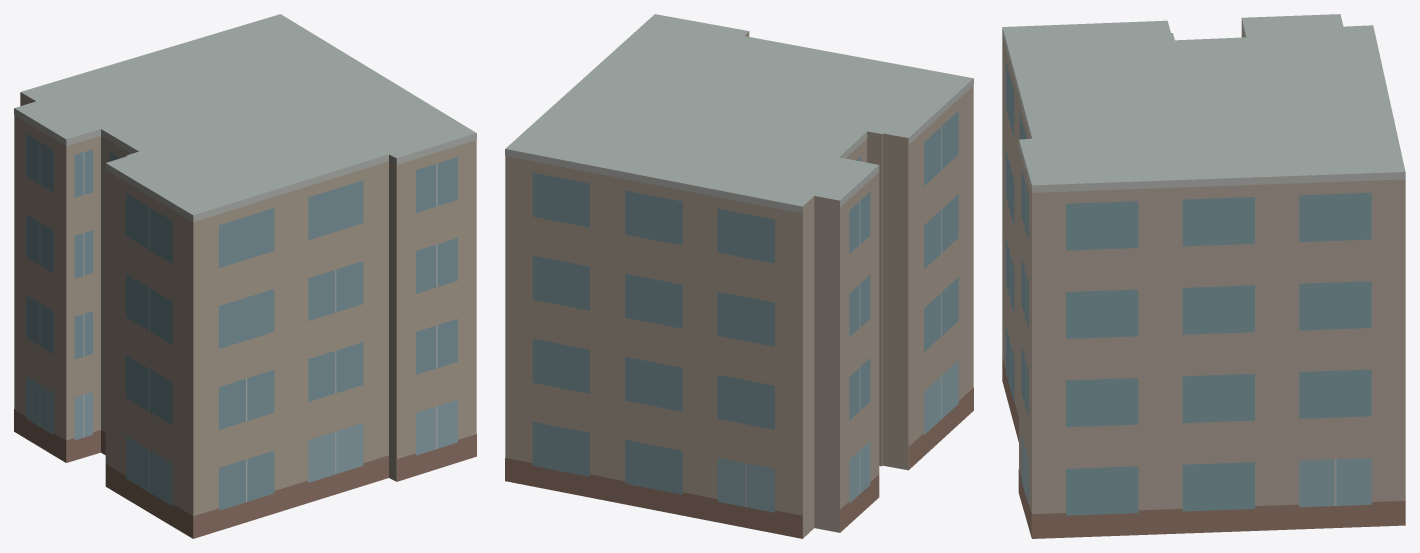
Rendered from survey-upis-32655116.glb.
3 views of the same model, side by side, from view 1: azimuth 30°, elevation 25°; view 2: azimuth 150°, elevation 25°; view 3: azimuth 270°, elevation 25° (orthographic). The views are drawn at different scales.
Parts seen in each view (by area): view 1: survey-upis-32655116.tmp; view 2: survey-upis-32655116.tmp; view 3: survey-upis-32655116.tmp.
Part boxes in pixels (x1=…): survey-upis-32655116.tmp: x1=14, y1=14, x2=476, y2=538; survey-upis-32655116.tmp: x1=505, y1=14, x2=973, y2=538; survey-upis-32655116.tmp: x1=1002, y1=14, x2=1405, y2=538.
Size of the model in its own units: 12.07 by 11.6 by 12.
